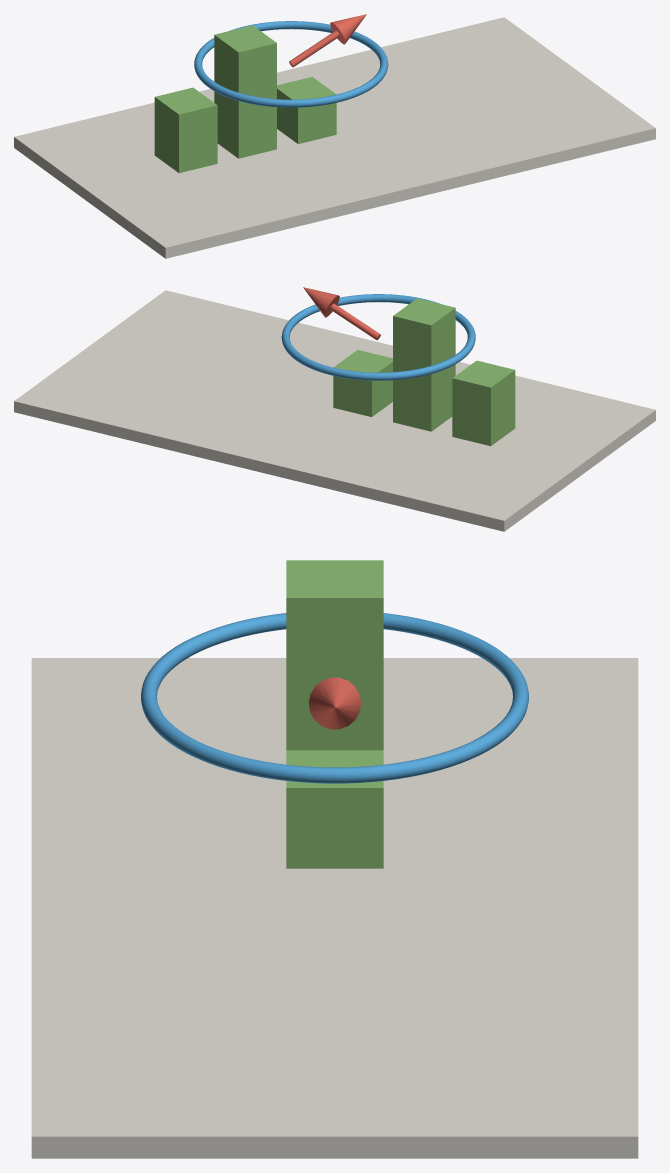
The model's file is math-data-probability.glb.
The picture shows the model from 3 angles, top to bottom: view 1: azimuth 30°, elevation 25°; view 2: azimuth 150°, elevation 25°; view 3: azimuth 270°, elevation 25°; orthographic projection. The views are drawn at different scales.
Parts seen in each view (by area): view 1: manipulative-base, bar-2, bar-1, spinner-ring, bar-3, spinner-pointer-head, spinner-pointer-shaft; view 2: manipulative-base, bar-2, bar-1, spinner-ring, bar-3, spinner-pointer-head, spinner-pointer-shaft; view 3: manipulative-base, bar-2, spinner-ring, bar-3, spinner-pointer-head.
Part boxes in pixels (x1=…): manipulative-base: x1=14, y1=17, x2=655, y2=258; bar-2: x1=214, y1=25, x2=276, y2=158; bar-1: x1=154, y1=87, x2=217, y2=173; spinner-ring: x1=194, y1=21, x2=388, y2=107; bar-3: x1=277, y1=77, x2=336, y2=143; spinner-pointer-head: x1=330, y1=14, x2=366, y2=44; spinner-pointer-shaft: x1=289, y1=30, x2=339, y2=67; manipulative-base: x1=14, y1=290, x2=655, y2=531; bar-2: x1=393, y1=298, x2=455, y2=431; bar-1: x1=452, y1=360, x2=515, y2=446; spinner-ring: x1=281, y1=294, x2=475, y2=380; bar-3: x1=333, y1=350, x2=392, y2=416; spinner-pointer-head: x1=303, y1=287, x2=339, y2=317; spinner-pointer-shaft: x1=330, y1=303, x2=380, y2=340; manipulative-base: x1=31, y1=658, x2=638, y2=1158; bar-2: x1=286, y1=560, x2=383, y2=750; spinner-ring: x1=141, y1=613, x2=528, y2=783; bar-3: x1=286, y1=750, x2=383, y2=868; spinner-pointer-head: x1=308, y1=677, x2=361, y2=729.
Size of what is drawn, in the model's own units: 2.8 by 0.69 by 1.5.
